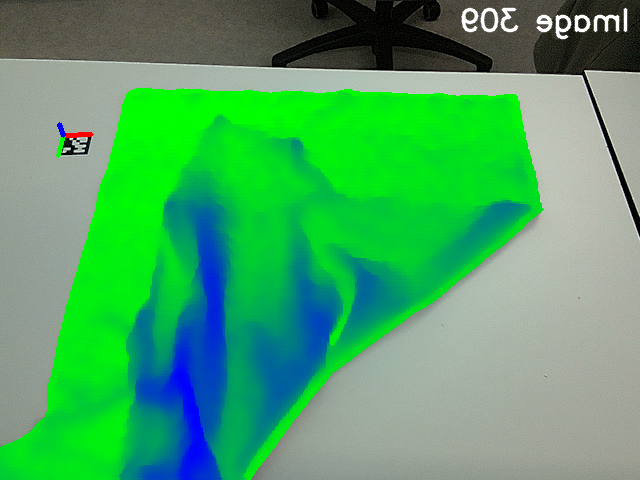V: (201, 104, 245, 147)
